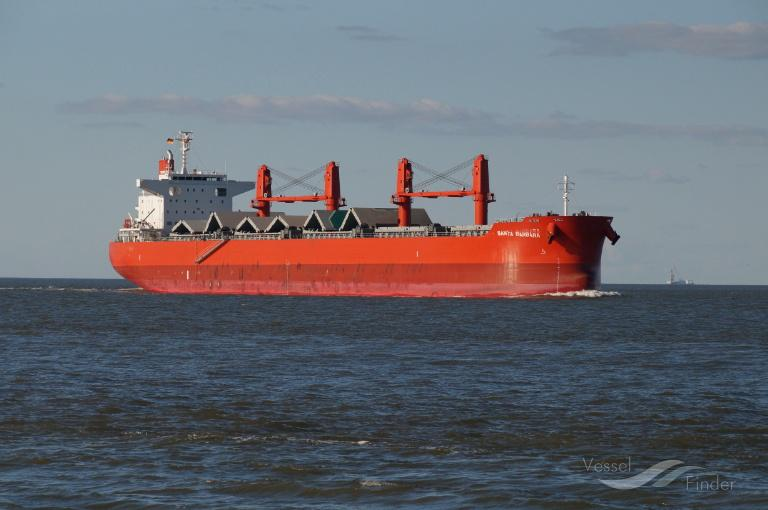OCR: (491, 226, 545, 241)
